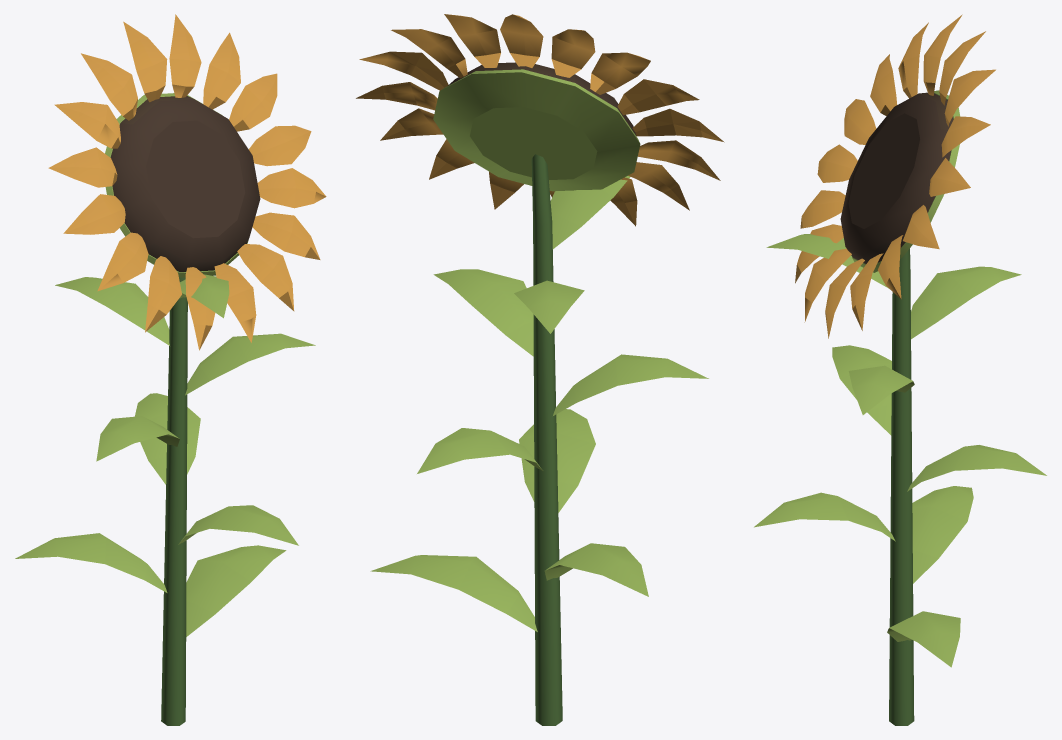
The model's file is crop_sunflower_mature.glb.
3 renders of one model, left to right at view 1: azimuth 30°, elevation 25°; view 2: azimuth 150°, elevation 25°; view 3: azimuth 270°, elevation 25°, orthographic. The views are drawn at different scales.
Parts seen in each view (by area): view 1: sunflower_head, sunflower_head_disc, sunflower_leaf_0, sunflower_stem, sunflower_head_back; view 2: sunflower_leaf_0, sunflower_head, sunflower_head_back, sunflower_stem, sunflower_head_disc; view 3: sunflower_leaf_0, sunflower_head, sunflower_head_disc, sunflower_stem, sunflower_head_back.
Part boxes in pixels (bbox=[...]): sunflower_head: bbox=[48, 14, 326, 350]; sunflower_head_disc: bbox=[110, 96, 260, 272]; sunflower_leaf_0: bbox=[15, 274, 315, 636]; sunflower_stem: bbox=[161, 277, 187, 725]; sunflower_head_back: bbox=[105, 93, 248, 277]; sunflower_leaf_0: bbox=[370, 176, 708, 631]; sunflower_head: bbox=[356, 14, 724, 226]; sunflower_head_back: bbox=[433, 69, 640, 191]; sunflower_stem: bbox=[531, 154, 562, 725]; sunflower_head_disc: bbox=[448, 62, 636, 135]; sunflower_leaf_0: bbox=[754, 234, 1046, 667]; sunflower_head: bbox=[795, 14, 995, 338]; sunflower_head_disc: bbox=[840, 92, 953, 263]; sunflower_stem: bbox=[889, 248, 914, 725]; sunflower_head_back: bbox=[852, 90, 960, 272].
Size of the model in its own units: 0.7363 by 1.62 by 0.631.
